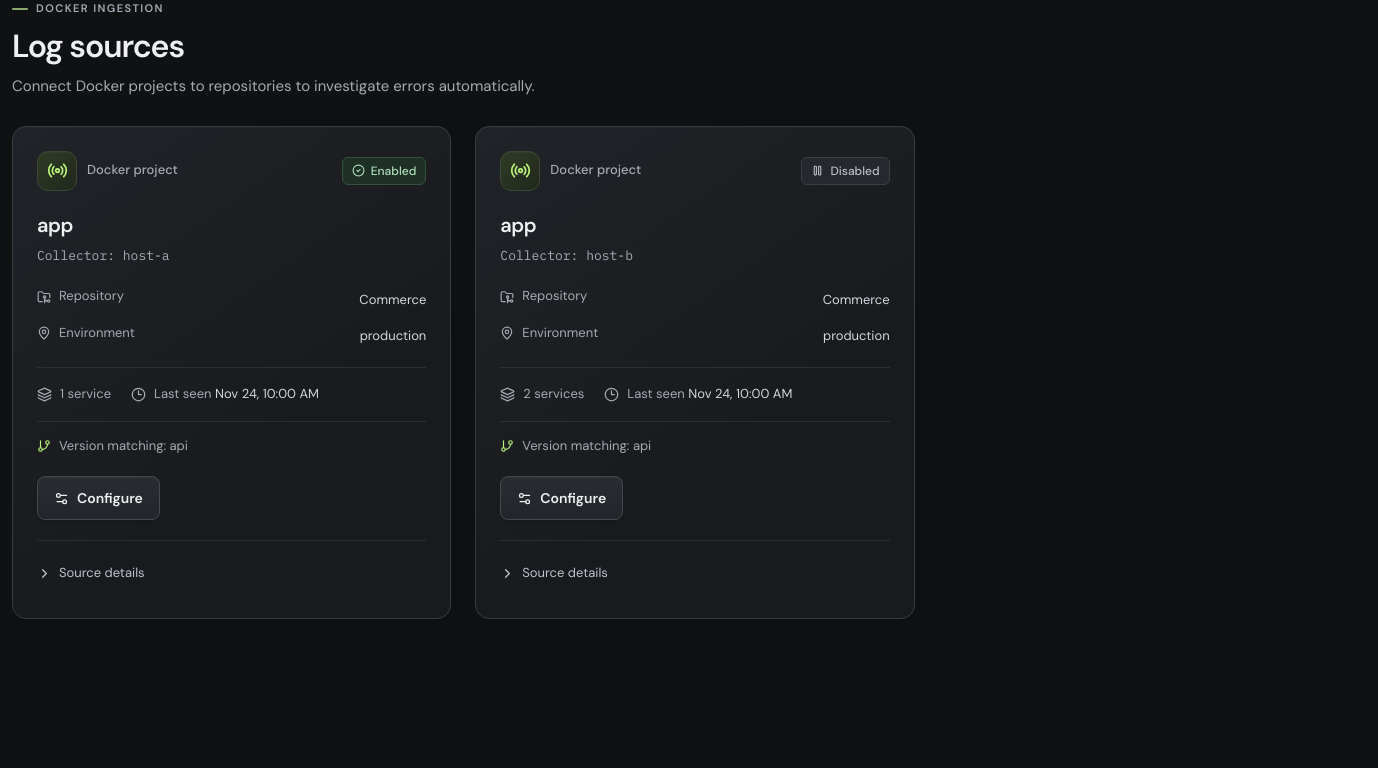
Test: saves for the correct collector, retains missing services, and omits hidden runtime settings
Check: the text "Disabled" is shown, box x1=802 y1=157 x2=890 y2=185
Check: the text "Collector: host-a" is shown, box x1=37 y1=247 x2=170 y2=264
Click the button with aria-label "Configure app (host-a)". click: (98, 498)
box: x1=37 y1=476 x2=160 y2=520
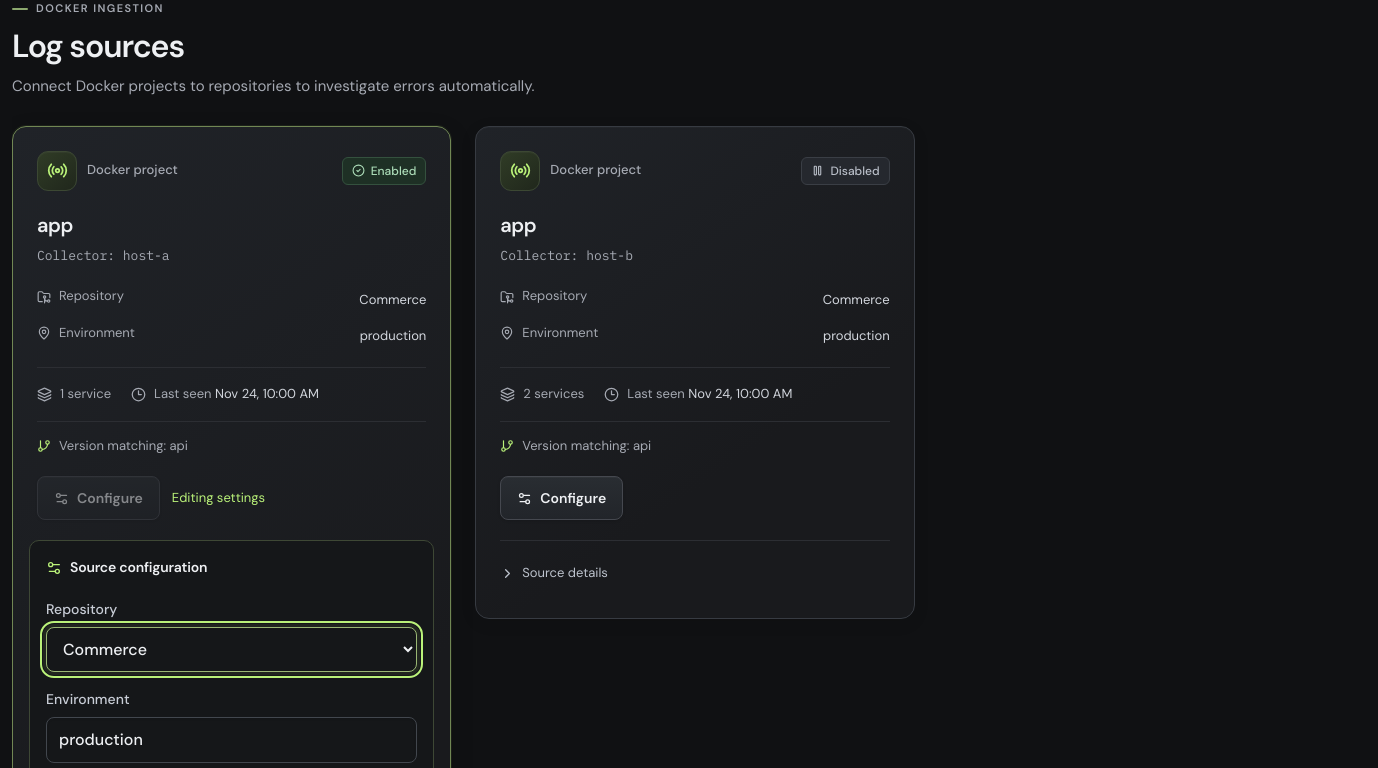
Replace the text in the field named "Environment for app (host-a)" with "staging". click: (232, 740)
box: x1=46 y1=717 x2=417 y2=763
(page scrolled)
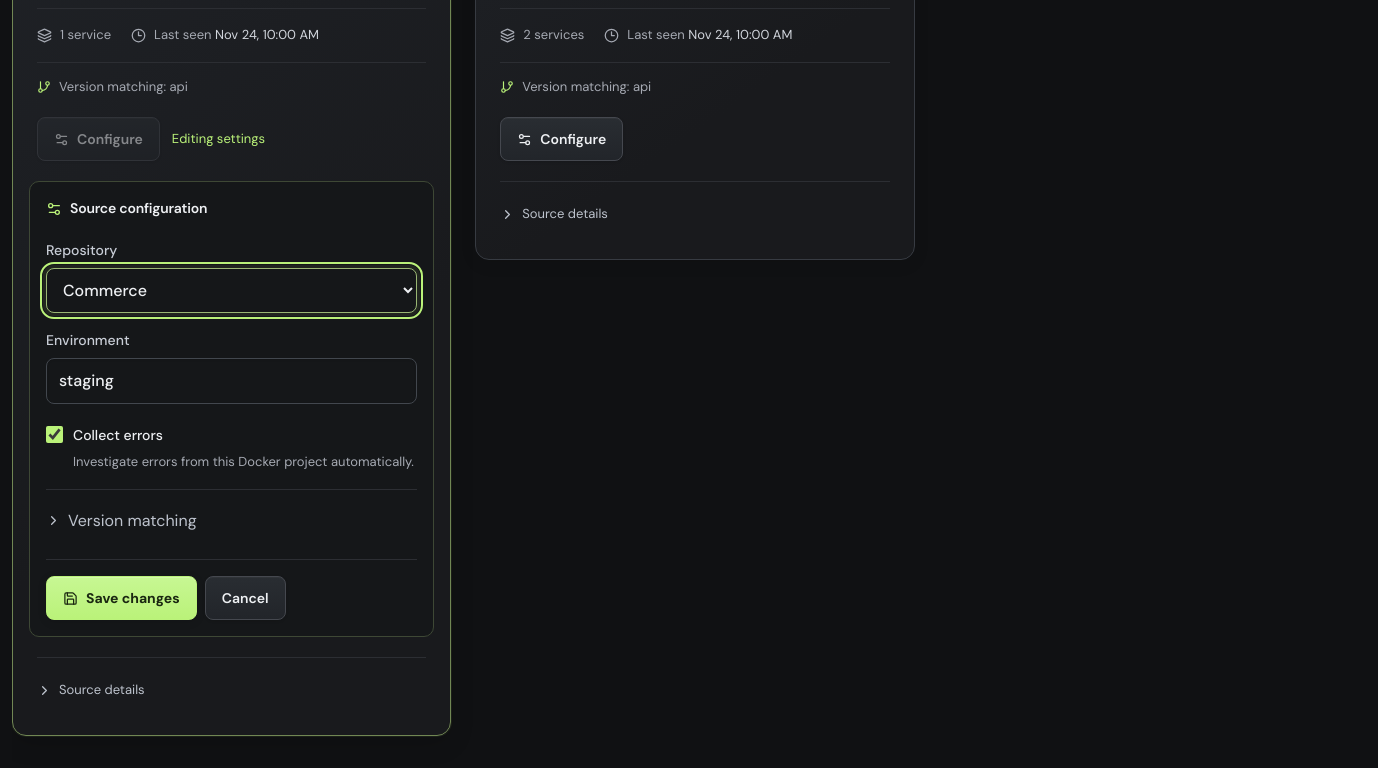
Click the heading "Version matching". click: (121, 520)
box: x1=46 y1=510 x2=197 y2=531
(page scrolled)
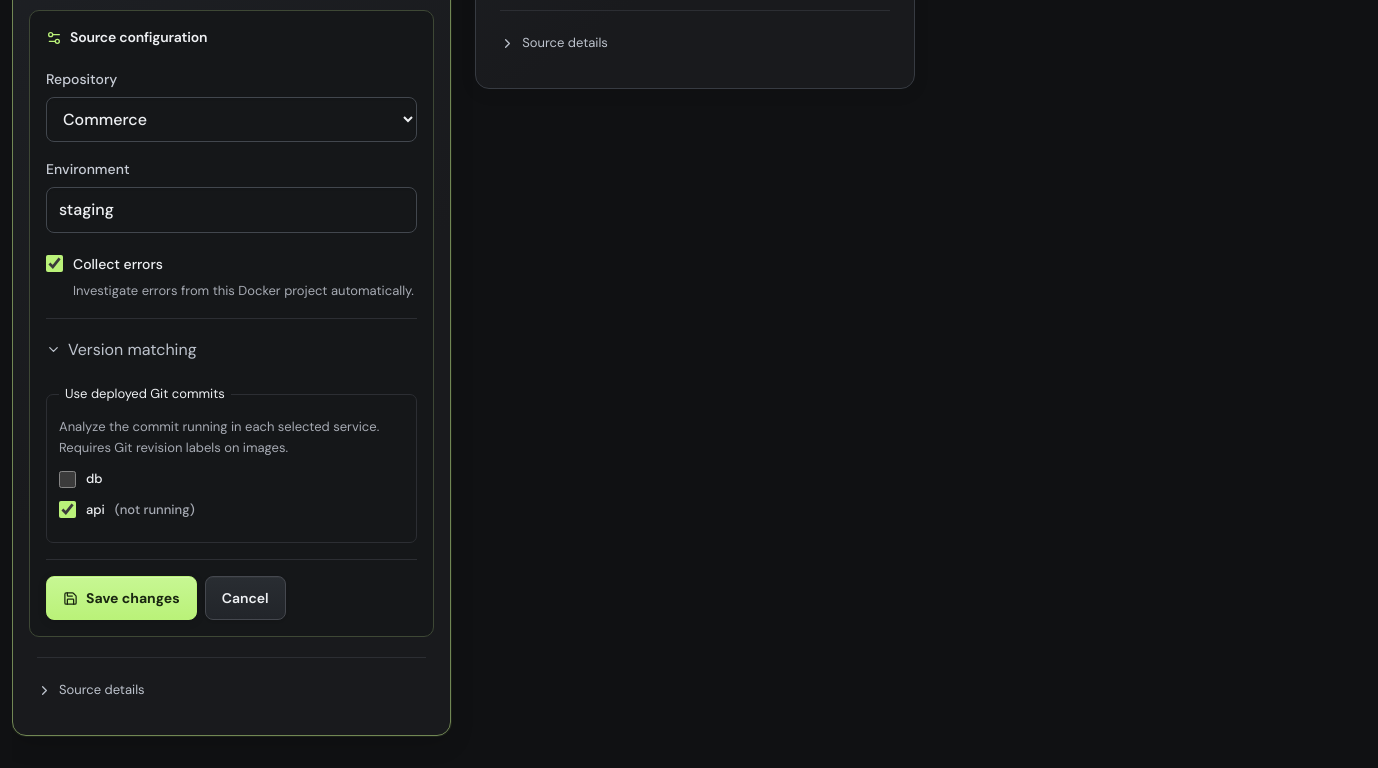
Check: the checkbox labelled "api (not running)" is checked, box x1=59 y1=502 x2=76 y2=518
Click the button "Save changes". click: (121, 598)
box: x1=46 y1=576 x2=197 y2=620
(page scrolled)
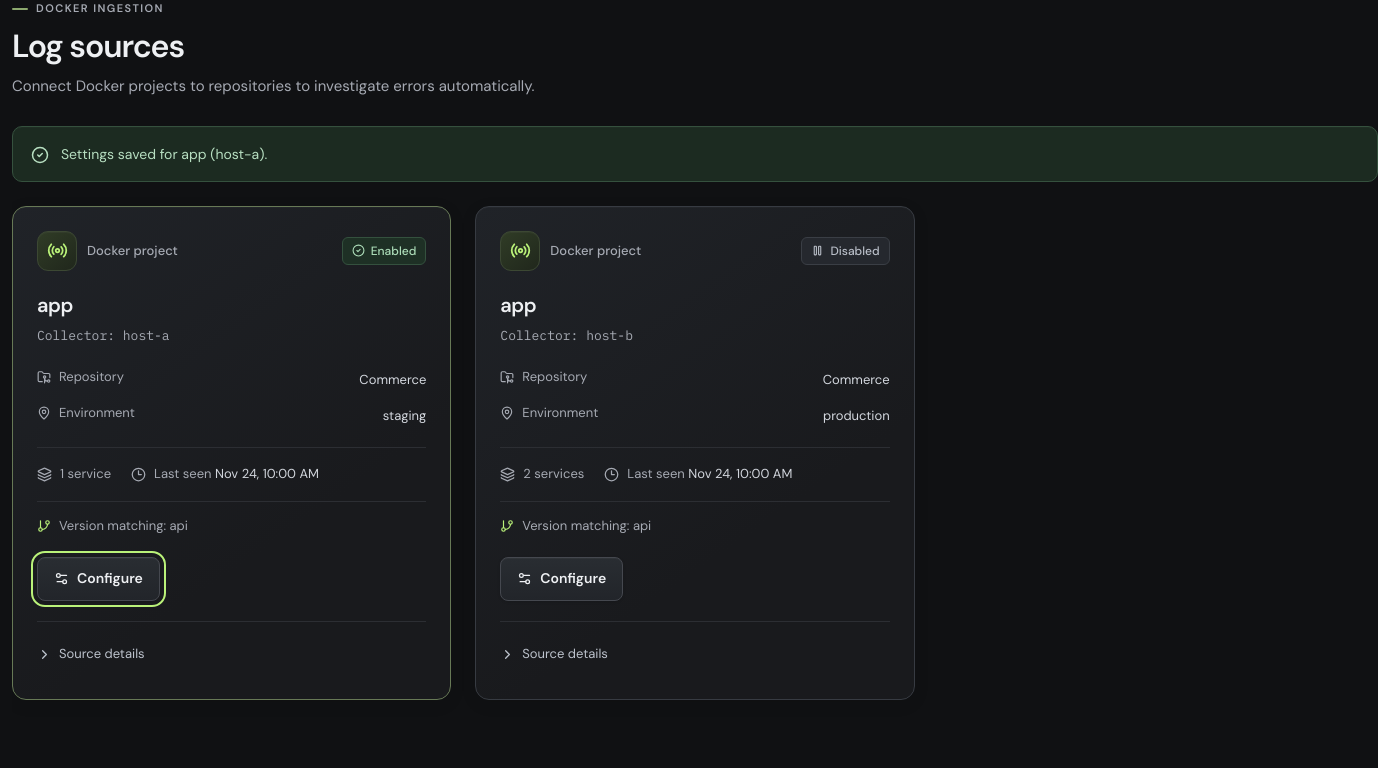
Check: the form is gone
Check: the text "staging" is shown, box x1=383 y1=407 x2=426 y2=424
Check: the text "Settings saved for app (host-a)." is shown, box x1=61 y1=143 x2=267 y2=165
